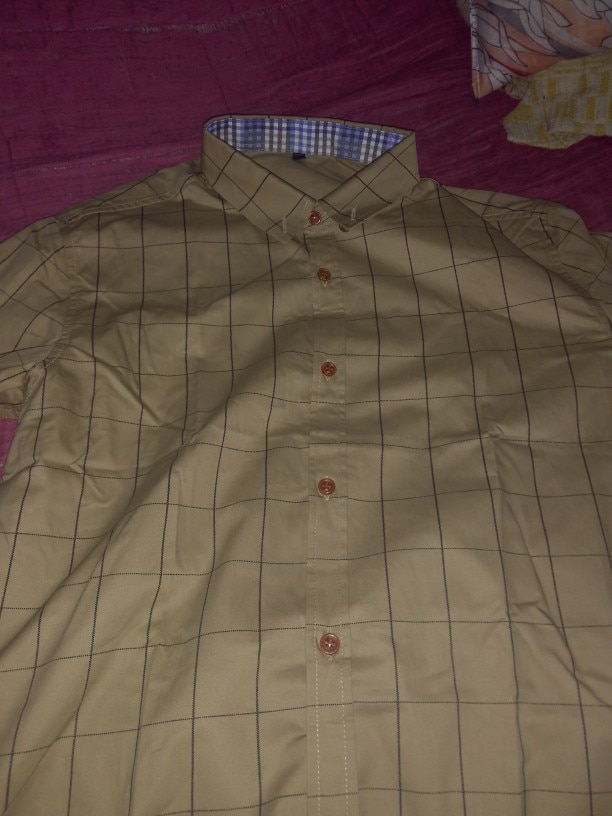shirts: (19, 112, 612, 793)
